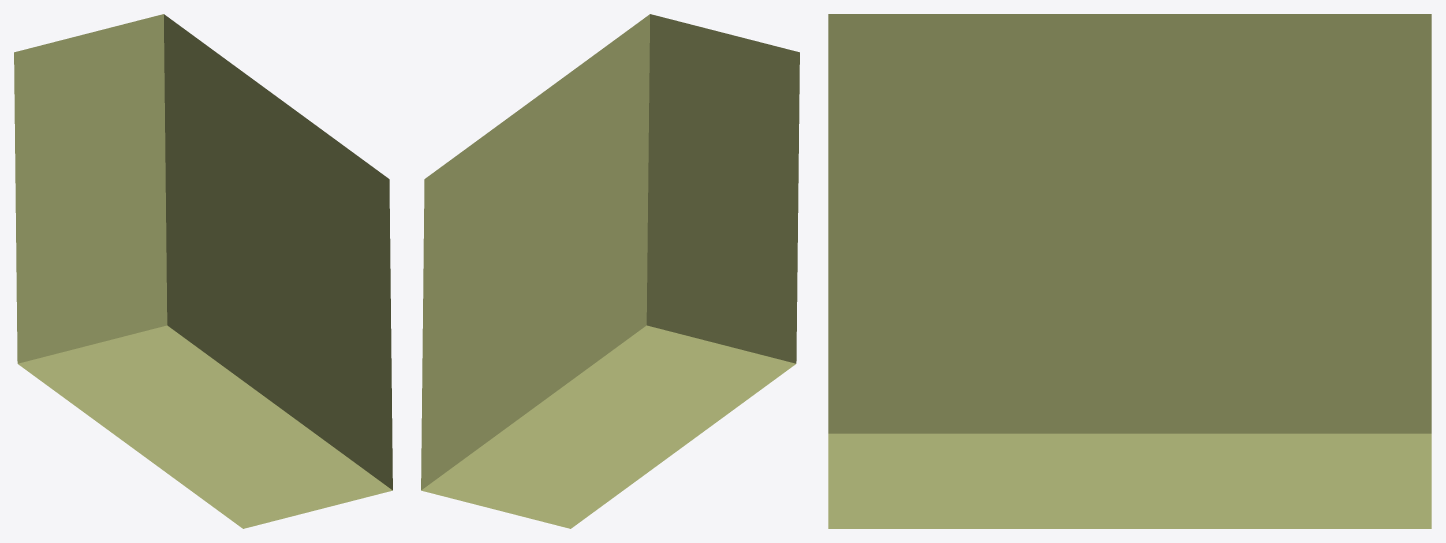
The picture shows the model from 3 angles, left to right: view 1: azimuth 30°, elevation 25°; view 2: azimuth 150°, elevation 25°; view 3: azimuth 270°, elevation 25°; orthographic projection. The views are drawn at different scales.
Visible parts, largest first — view 1: 0_2_1_0_0_3_0_0_3_0; view 2: 0_2_1_0_0_3_0_0_3_0; view 3: 0_2_1_0_0_3_0_0_3_0.
Boxes of the visible parts, x1,y1,x2,y2 form: 0_2_1_0_0_3_0_0_3_0: [14, 14, 392, 528]; 0_2_1_0_0_3_0_0_3_0: [421, 14, 799, 528]; 0_2_1_0_0_3_0_0_3_0: [828, 14, 1431, 528].
Bounding box in the file's own units: 2.35 × 4.61 × 6.
